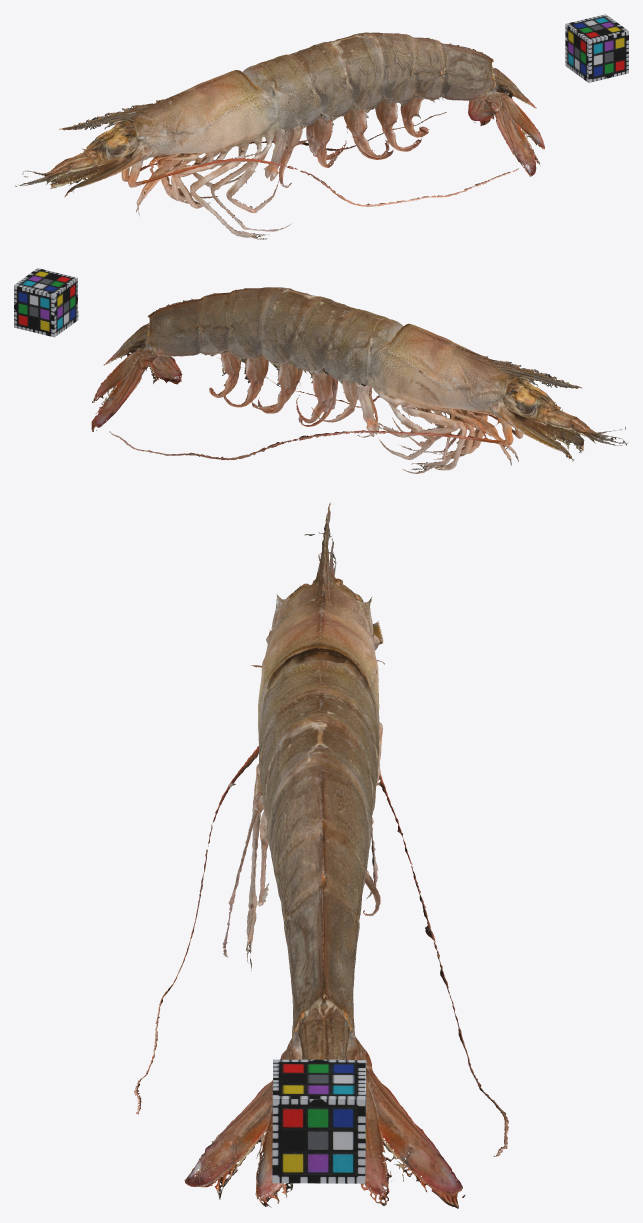
File: shrimp_original.glb
3 views of the same model, one above another, from view 1: azimuth 30°, elevation 25°; view 2: azimuth 150°, elevation 25°; view 3: azimuth 270°, elevation 25° (orthographic). The views are drawn at different scales.
Visible parts, largest first — view 1: Q11586-1all-6_5, Cube_2; view 2: Q11586-1all-6_5, Cube_2; view 3: Q11586-1all-6_5, Cube_2.
Part boxes in pixels (x1,y1,x2,y2): Q11586-1all-6_5: (15,32,544,239); Cube_2: (565,14,628,82); Q11586-1all-6_5: (91,287,627,473); Cube_2: (14,268,78,337); Q11586-1all-6_5: (134,502,508,1208); Cube_2: (272,1059,366,1183).
Size of the model in its own units: 11.32 by 2.99 by 3.05.
Materials: 2 (2 with a texture image).
